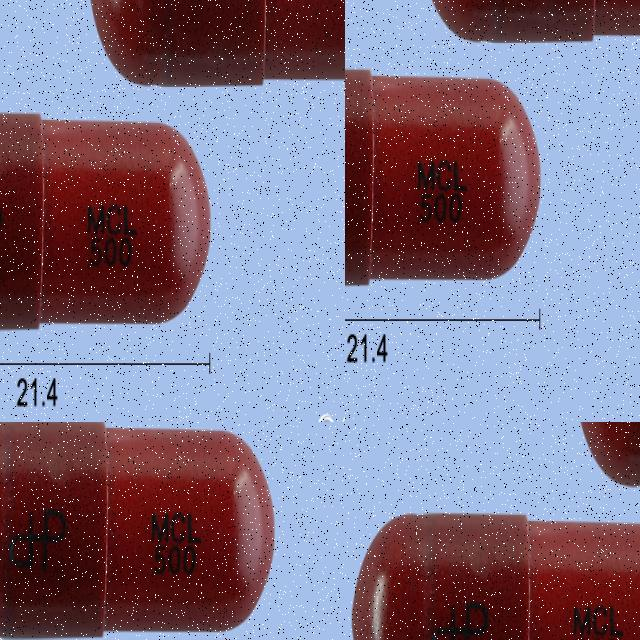Cephamethyl Cap: (349, 502, 640, 640)
Claricin - 250mg: (0, 450, 307, 640)
Clathro: (345, 2, 498, 291)
Daewoong Levofloxacin: (5, 145, 167, 422)
